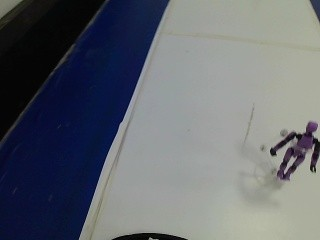pedestrian: (253, 108, 318, 185)
